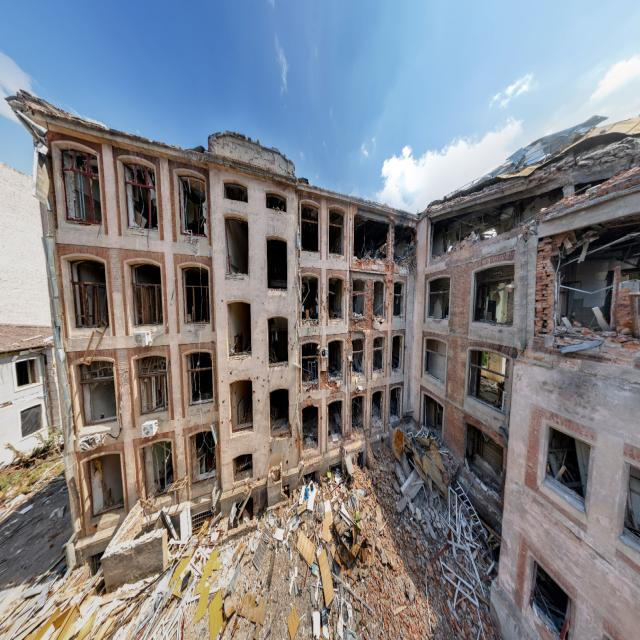broken_window: (542, 422, 590, 514), (529, 559, 571, 639), (60, 148, 101, 226), (69, 258, 109, 332), (467, 347, 509, 414), (472, 263, 514, 326), (79, 358, 117, 426), (123, 162, 158, 233), (130, 261, 163, 329), (137, 355, 168, 415), (178, 174, 207, 238), (182, 265, 210, 325), (224, 214, 249, 278), (186, 350, 214, 407), (227, 300, 251, 358), (229, 378, 253, 434), (299, 199, 320, 254), (426, 274, 450, 322), (266, 236, 287, 289), (269, 387, 290, 438), (267, 316, 288, 366), (300, 273, 320, 325)
